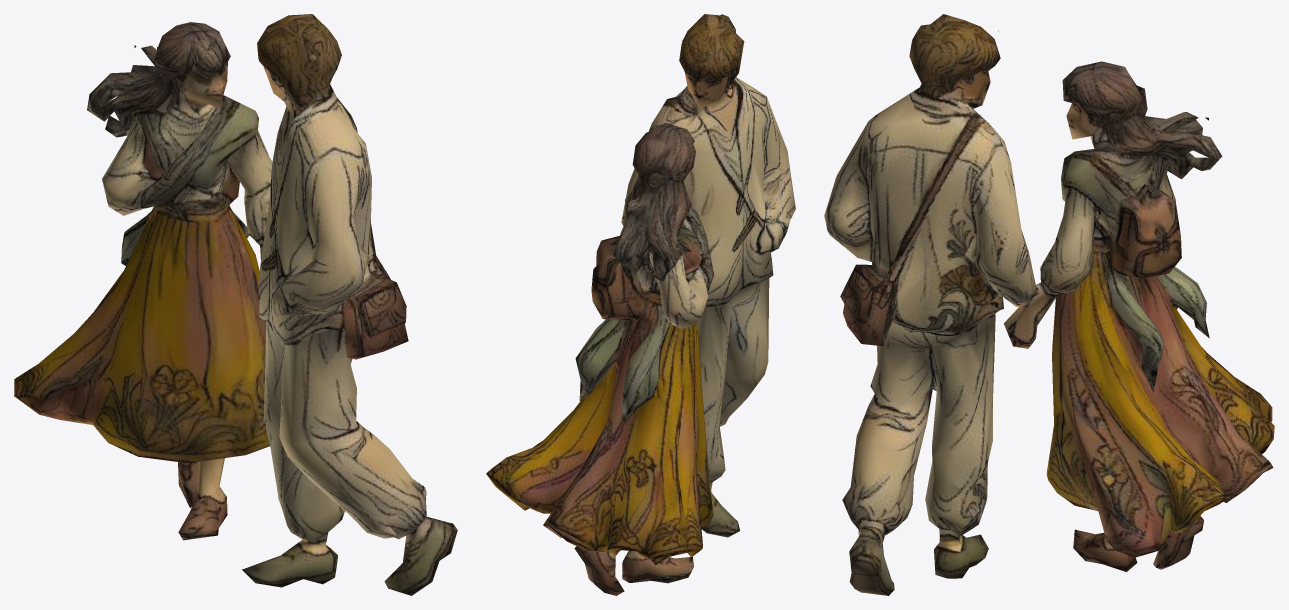
File: demo_couple_mucha.glb
The picture shows the model from 3 angles, left to right: view 1: azimuth 30°, elevation 25°; view 2: azimuth 150°, elevation 25°; view 3: azimuth 270°, elevation 25°; orthographic projection. The views are drawn at different scales.
Visible parts, largest first — view 1: tripo_node_0be1e8af-5cf7-42ce-a690-c230ca5d71ca.001; view 2: tripo_node_0be1e8af-5cf7-42ce-a690-c230ca5d71ca.001; view 3: tripo_node_0be1e8af-5cf7-42ce-a690-c230ca5d71ca.001.
Boxes of the visible parts, left/top/right/bottom form: tripo_node_0be1e8af-5cf7-42ce-a690-c230ca5d71ca.001: left=14, top=14, right=457, bottom=595; tripo_node_0be1e8af-5cf7-42ce-a690-c230ca5d71ca.001: left=486, top=14, right=795, bottom=595; tripo_node_0be1e8af-5cf7-42ce-a690-c230ca5d71ca.001: left=824, top=14, right=1274, bottom=595.
Bounding box in the file's own units: 0.4821 × 1 × 0.7391.
Materials: 1 (1 with a texture image).
